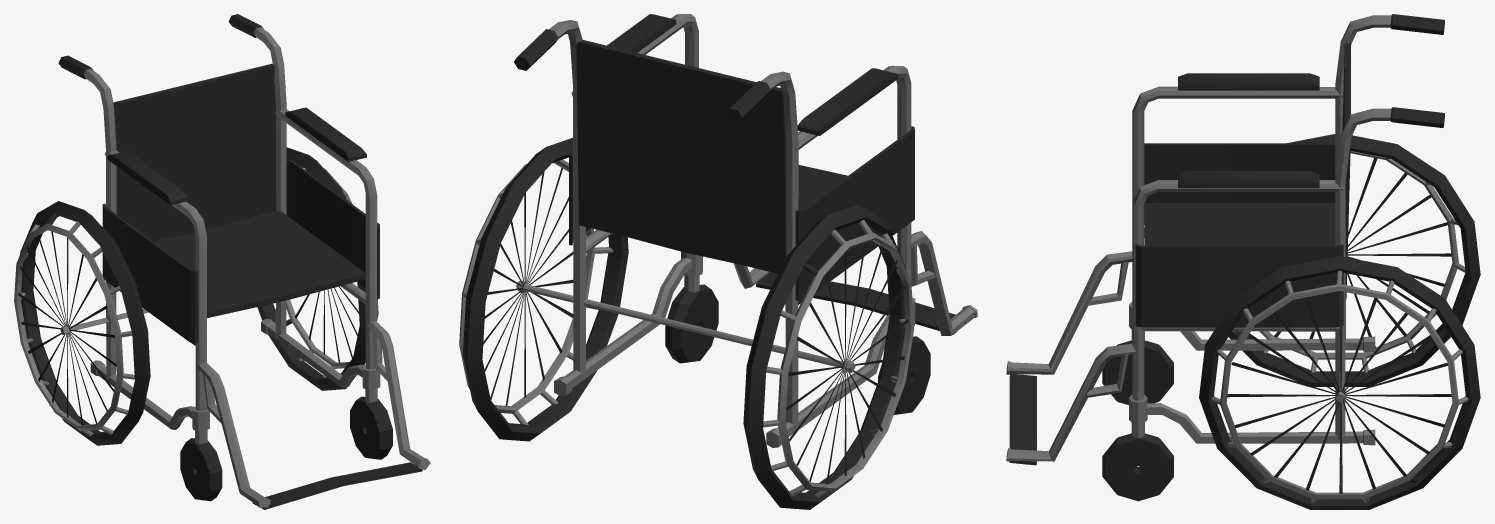
File: Wheel_chair.fbx
The picture shows the model from 3 angles, left to right: view 1: azimuth 30°, elevation 25°; view 2: azimuth 150°, elevation 25°; view 3: azimuth 270°, elevation 25°; orthographic projection. The views are drawn at different scales.
Visible parts, largest first — view 1: wheelchair; view 2: wheelchair; view 3: wheelchair.
Boxes of the visible parts, x1=… form: wheelchair: x1=14, y1=14, x2=430, y2=509; wheelchair: x1=459, y1=14, x2=977, y2=509; wheelchair: x1=1006, y1=14, x2=1480, y2=509.
Bounding box in the file's own units: 109 × 136 × 149.
